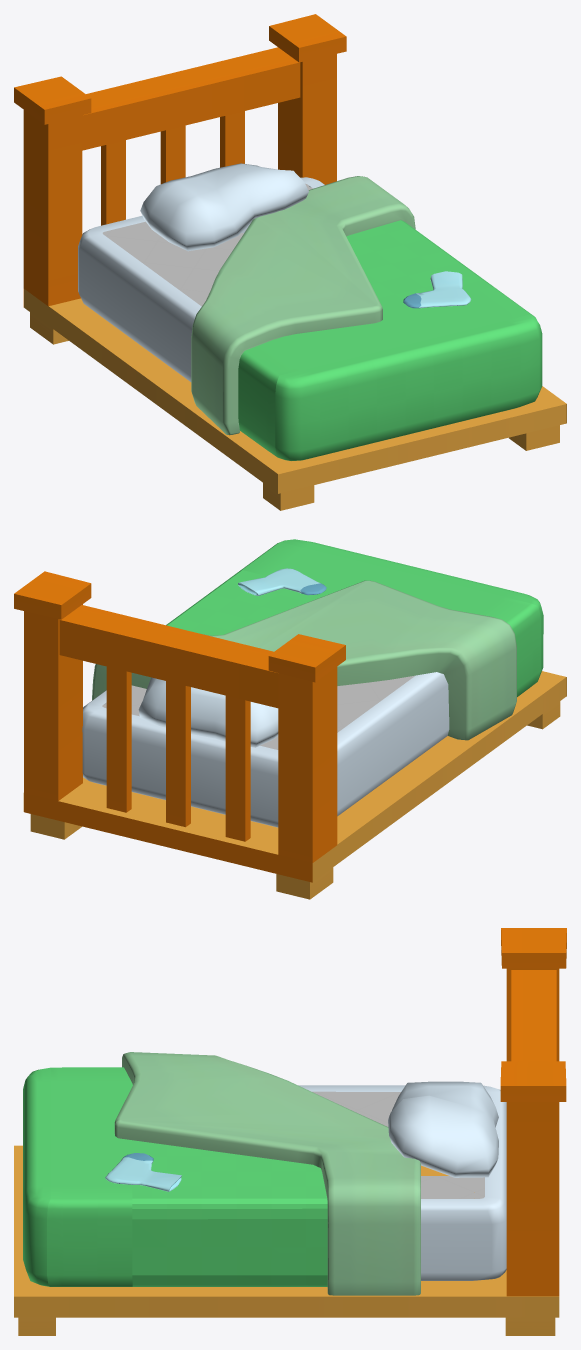
File: bedroom_bed.fbx
The picture shows the model from 3 angles, top to bottom: view 1: azimuth 30°, elevation 25°; view 2: azimuth 150°, elevation 25°; view 3: azimuth 270°, elevation 25°; orthographic projection. The views are drawn at different scales.
Visible parts, largest first — view 1: bed; view 2: bed; view 3: bed.
Boxes of the visible parts, bbox=[...] form: bed: bbox=[14, 14, 566, 510]; bed: bbox=[14, 539, 566, 899]; bed: bbox=[14, 928, 566, 1335].
Size of the model in its own units: 1.61 by 1.22 by 2.39.
